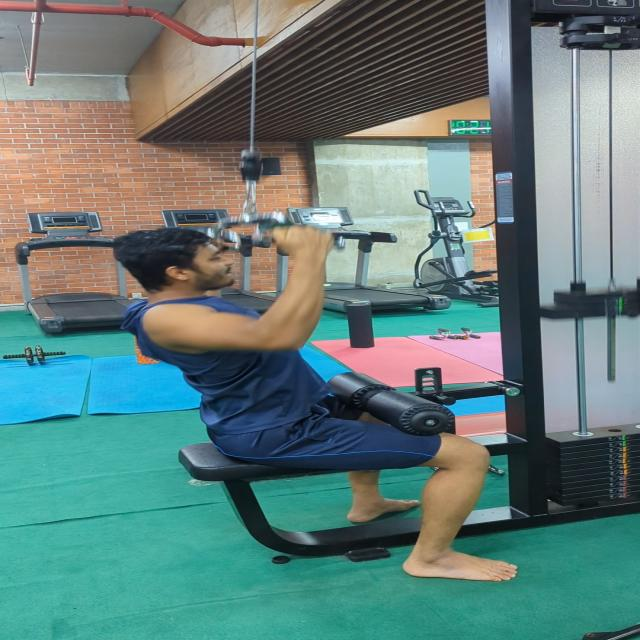Normal_LatPulldown: (74, 210, 560, 590)
